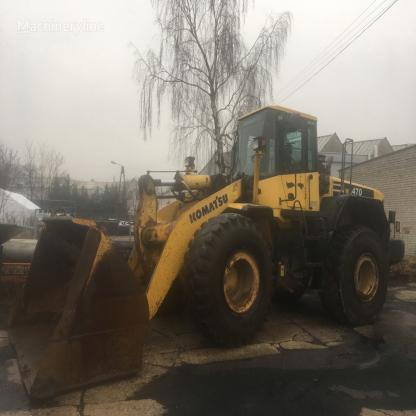bull_dozer/loader/grader: (5, 87, 400, 404)
